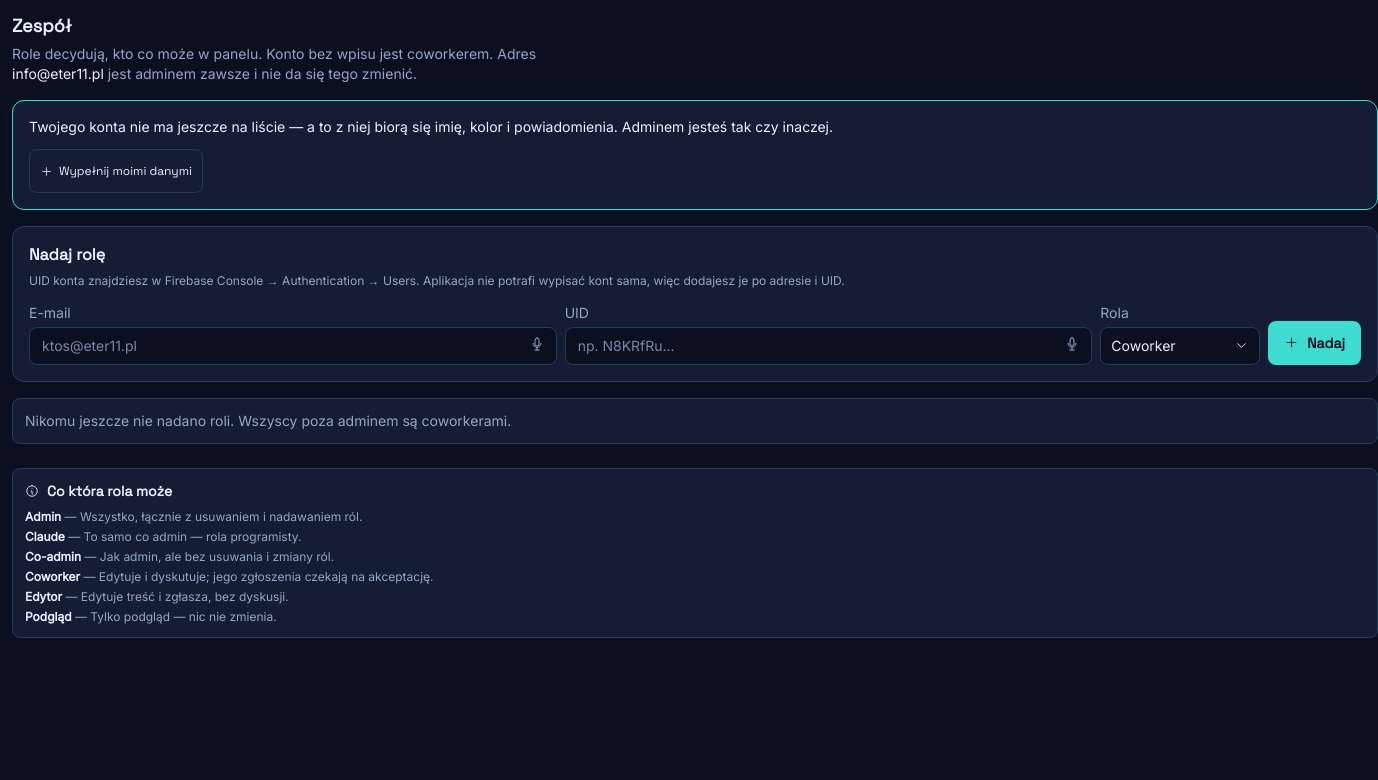
TeamPanel — ochrona przed samo-wylogowaniem › nie pozwala zdegradować konta założyciela przez „Nadaj rolę"
Type "info@eter11.pl" into the field labelled "E-mail".
click(293, 346); type("info@eter11.pl")  # box top-left (29, 326), bottom-right (557, 364)
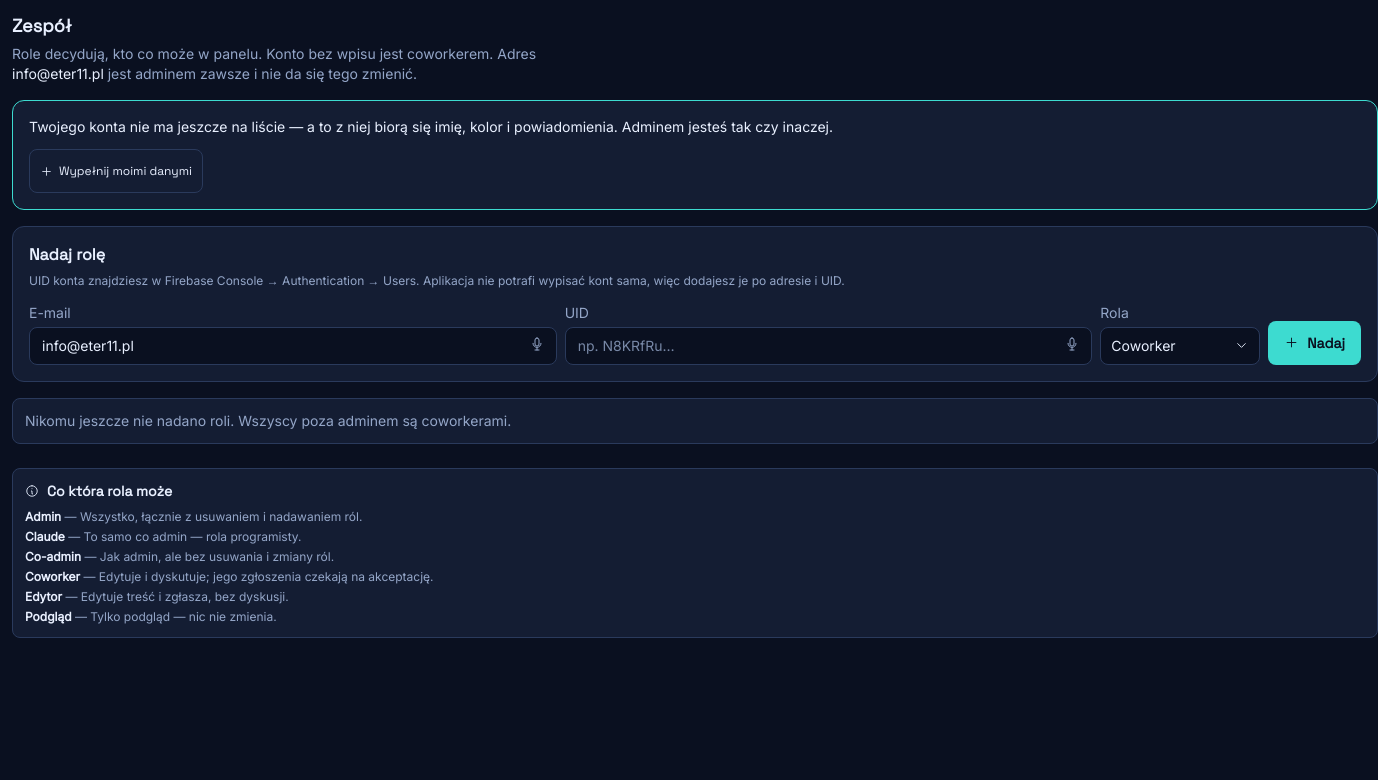
Type "rootUID" into the field labelled "UID".
click(829, 346); type("rootUID")  # box top-left (565, 326), bottom-right (1092, 364)
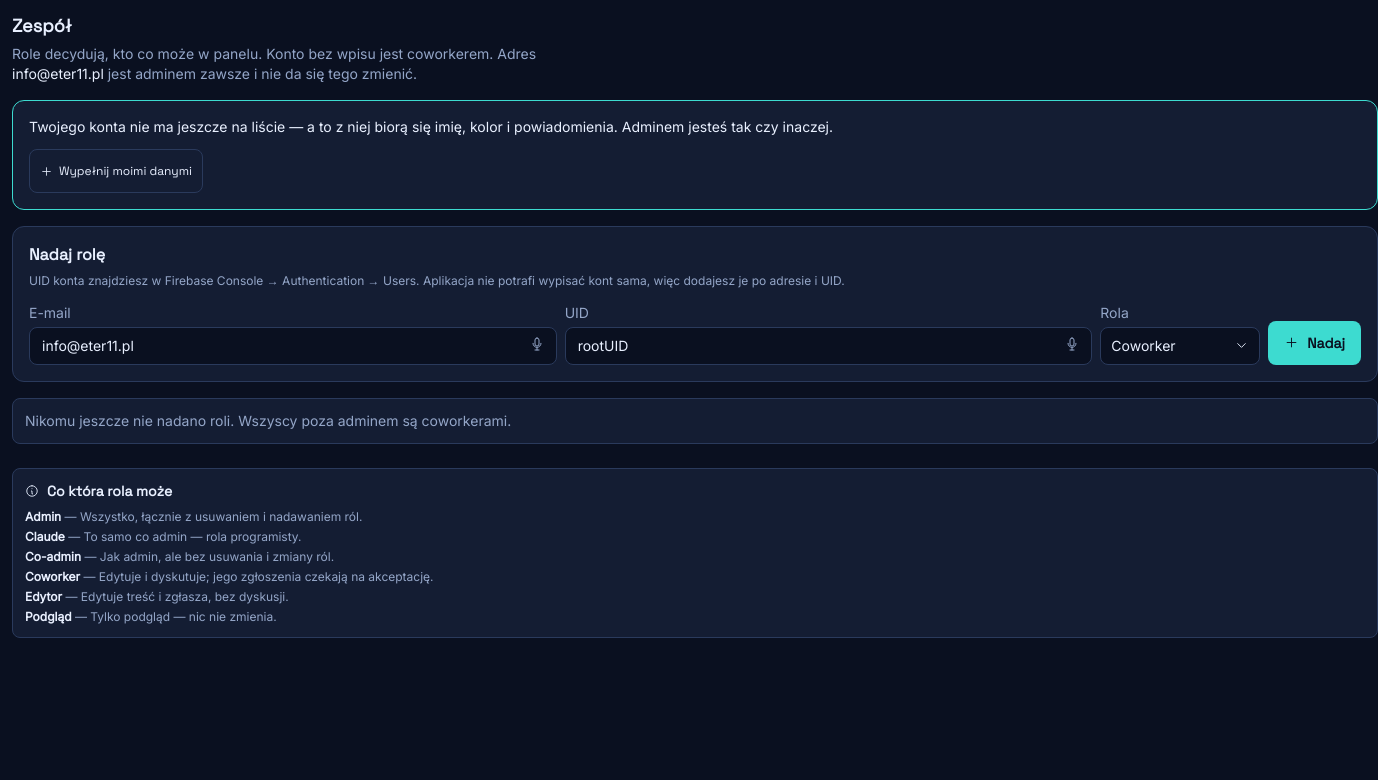
Click the button "Nadaj".
click(1315, 342)  # box top-left (1268, 320), bottom-right (1361, 364)
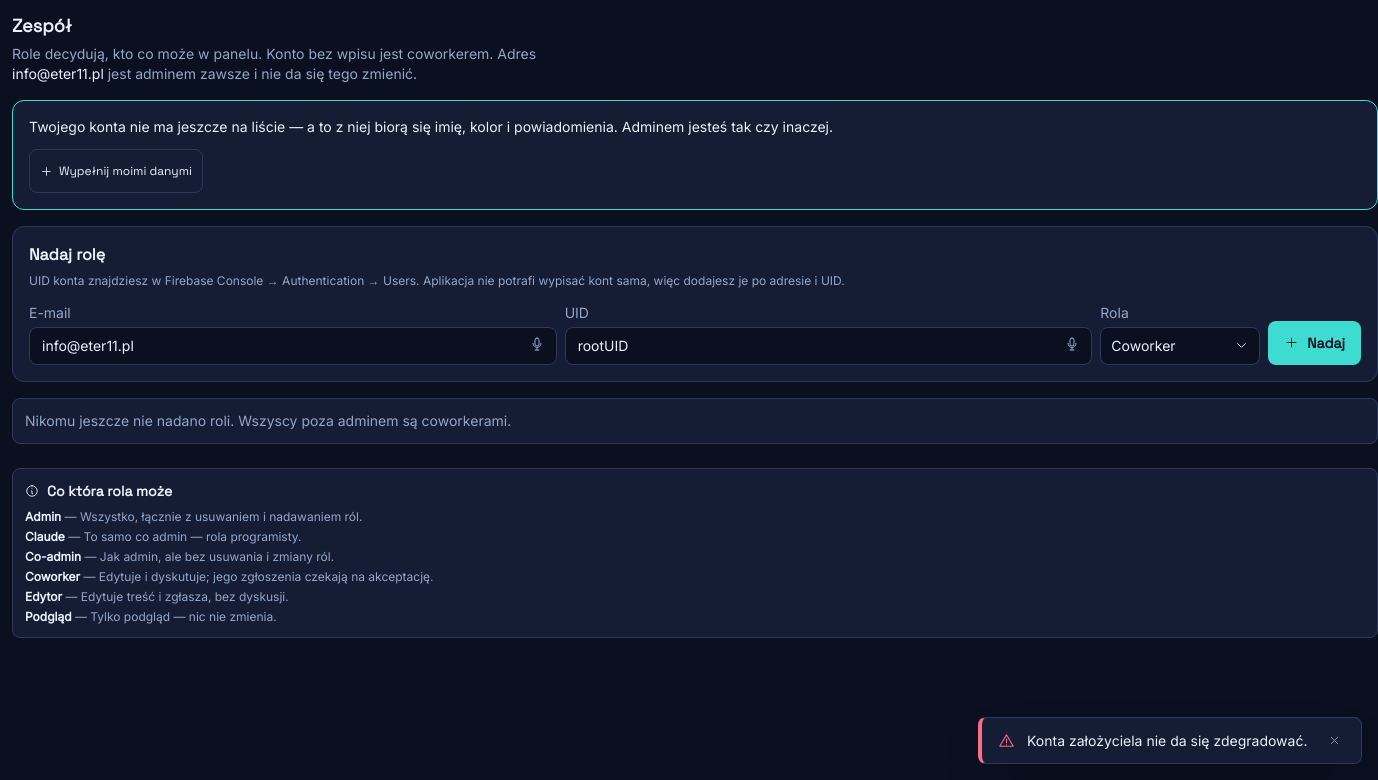
Check: the text "Konta założyciela nie da się zdegradować." is shown, box top-left (1027, 730), bottom-right (1312, 750)
